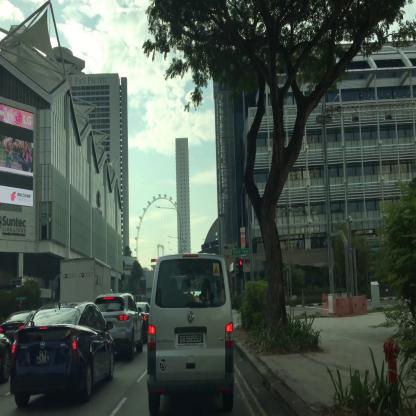red_traffic_light: (238, 258, 242, 278), (151, 258, 156, 262)
